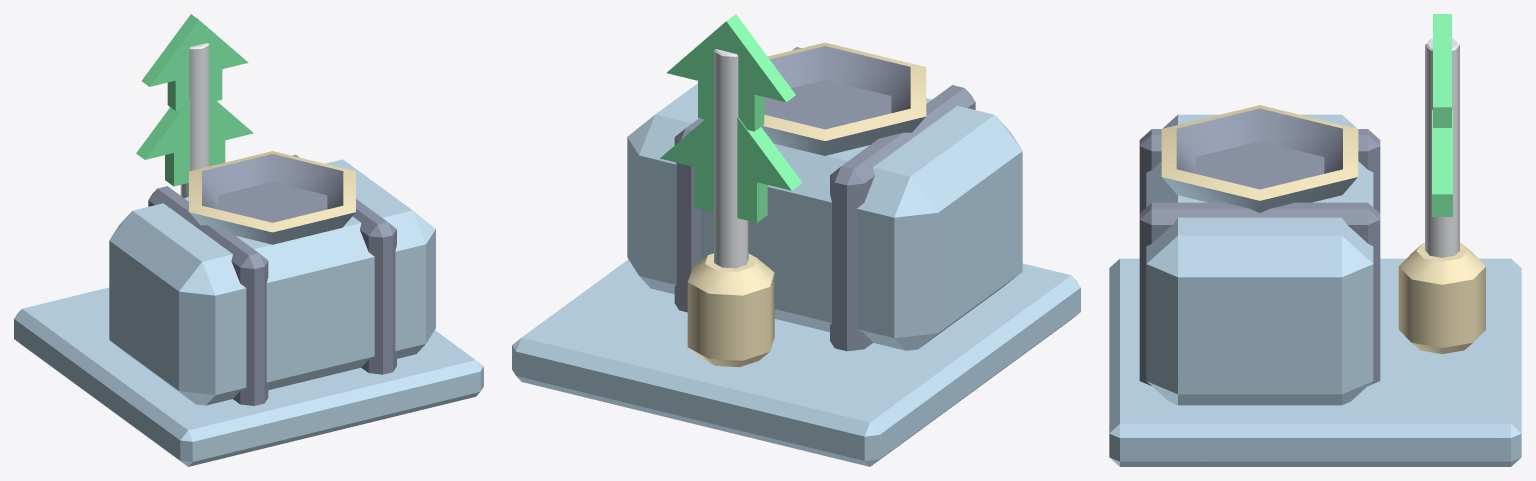
Rendered from R4X_CargoUplink_LOD1.glb.
3 renders of one model, left to right at view 1: azimuth 30°, elevation 25°; view 2: azimuth 150°, elevation 25°; view 3: azimuth 270°, elevation 25°, orthographic. The views are drawn at different scales.
Visible parts, largest first — view 1: R4X_CargoUplink_LOD1; view 2: R4X_CargoUplink_LOD1; view 3: R4X_CargoUplink_LOD1.
Part boxes in pixels (x1,y1,x2,y2): R4X_CargoUplink_LOD1: (14,14,483,466); R4X_CargoUplink_LOD1: (512,14,1080,466); R4X_CargoUplink_LOD1: (1109,14,1521,466).
Bounding box in the file's own units: 0.52 × 0.515 × 0.52.
